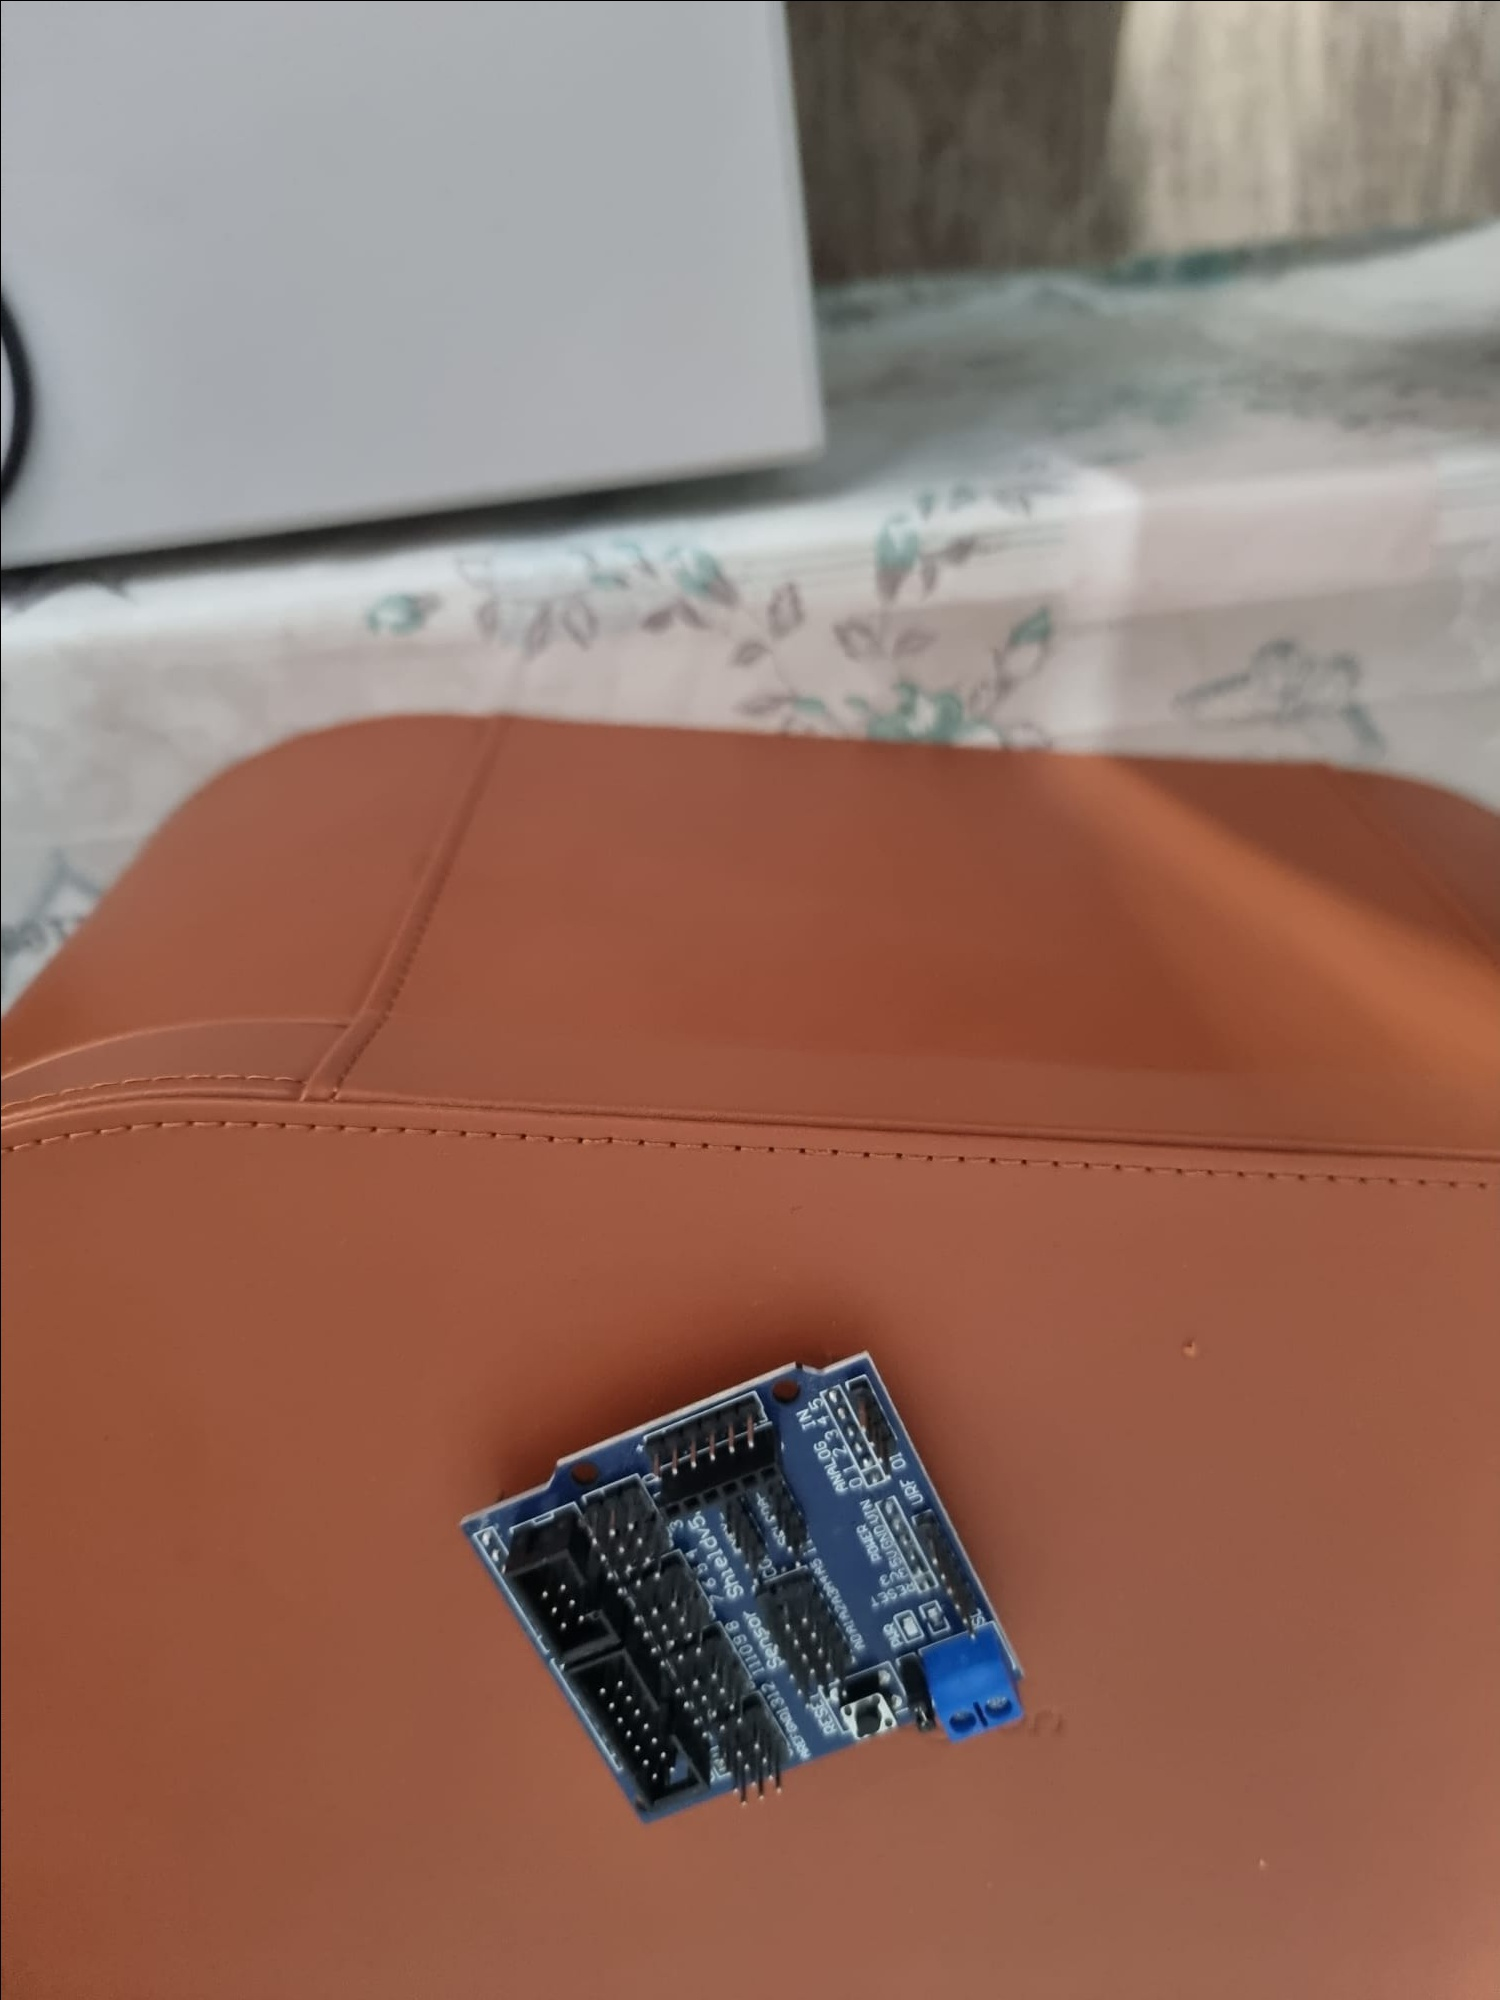5V EXPANSION: (441, 1350, 1024, 1841)
